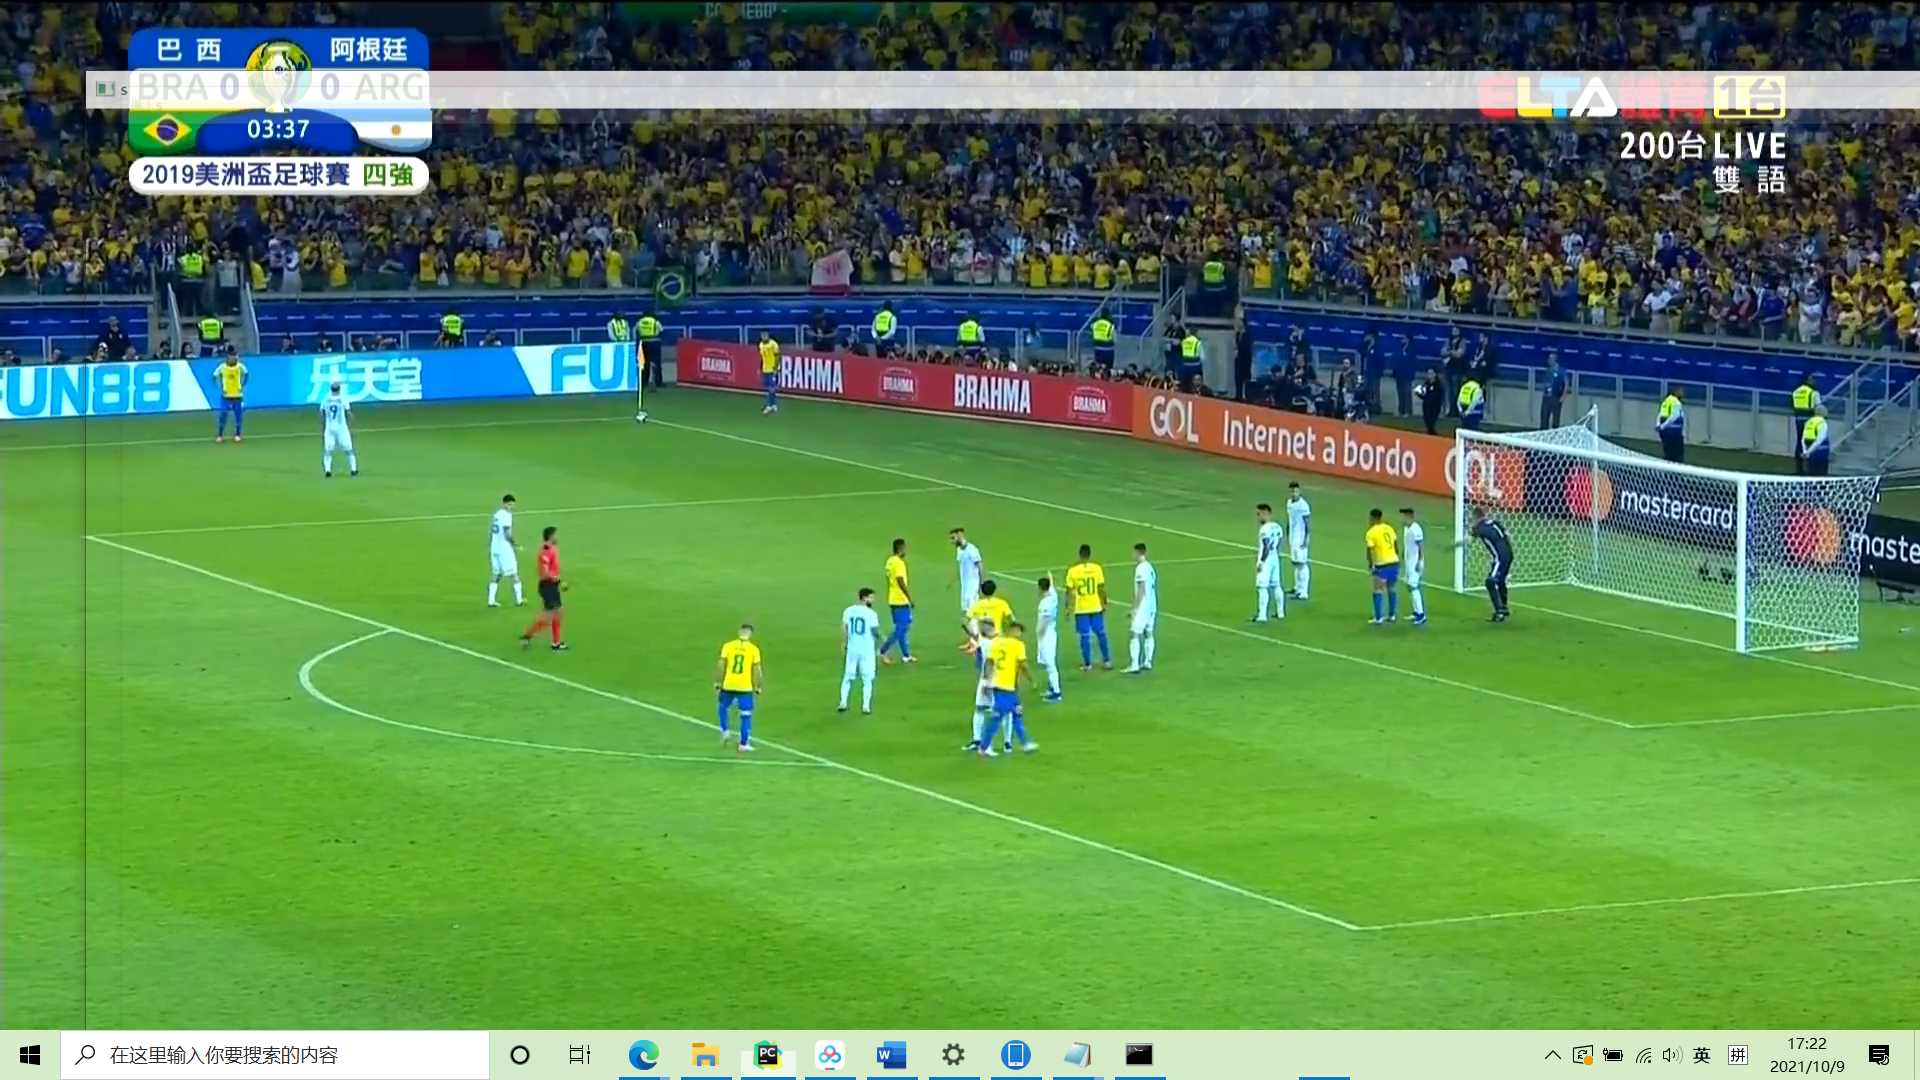ft: (634, 411, 649, 425)
